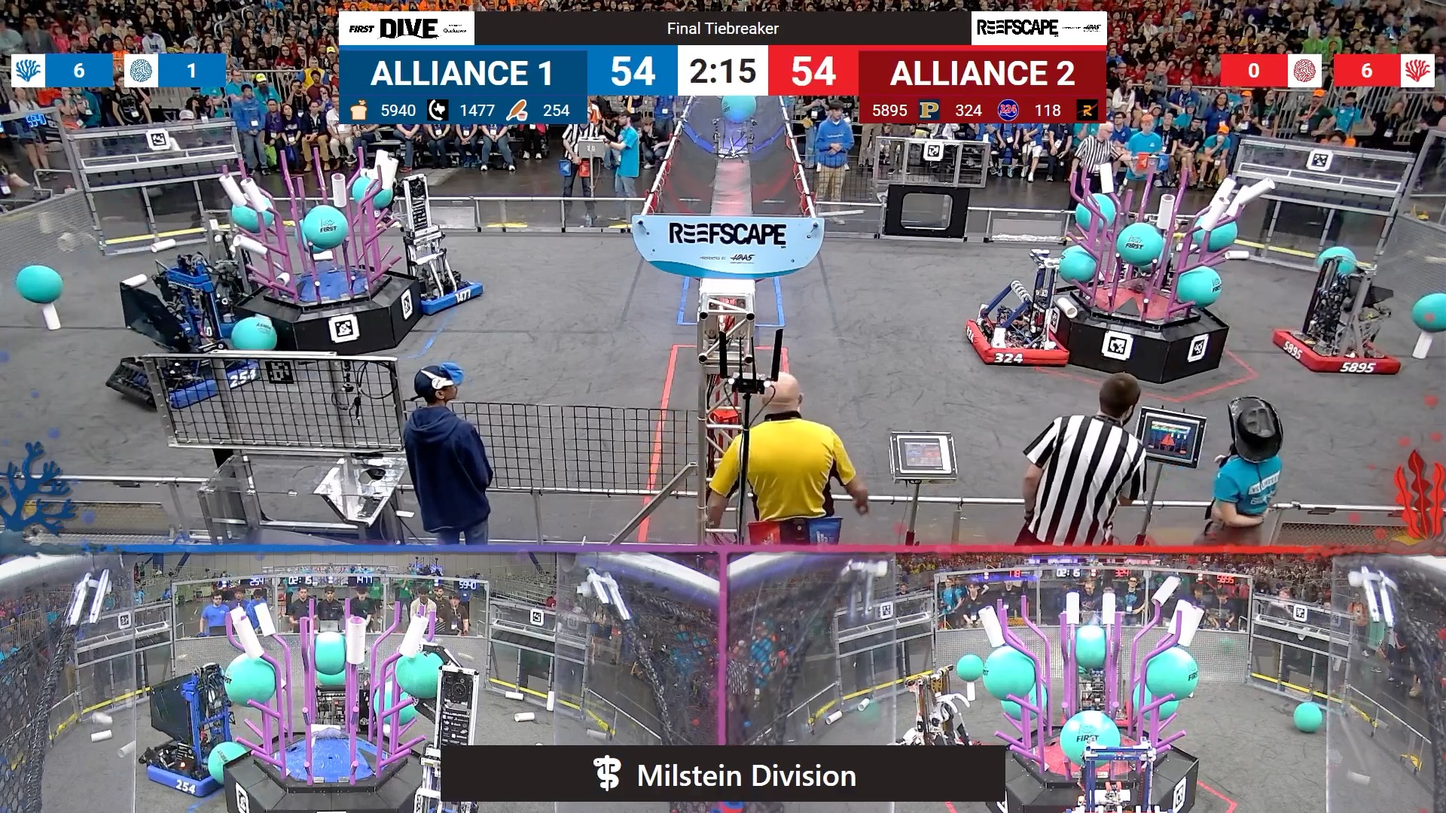bumpers: (1266, 323, 1408, 383), (120, 349, 262, 409), (962, 314, 1079, 375), (137, 748, 248, 801), (395, 271, 490, 319), (158, 319, 260, 341)
